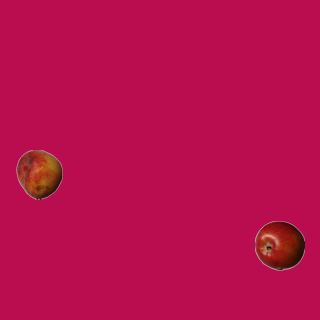Apple Braeburn: (254, 220, 304, 270)
Peach: (14, 149, 64, 199)
